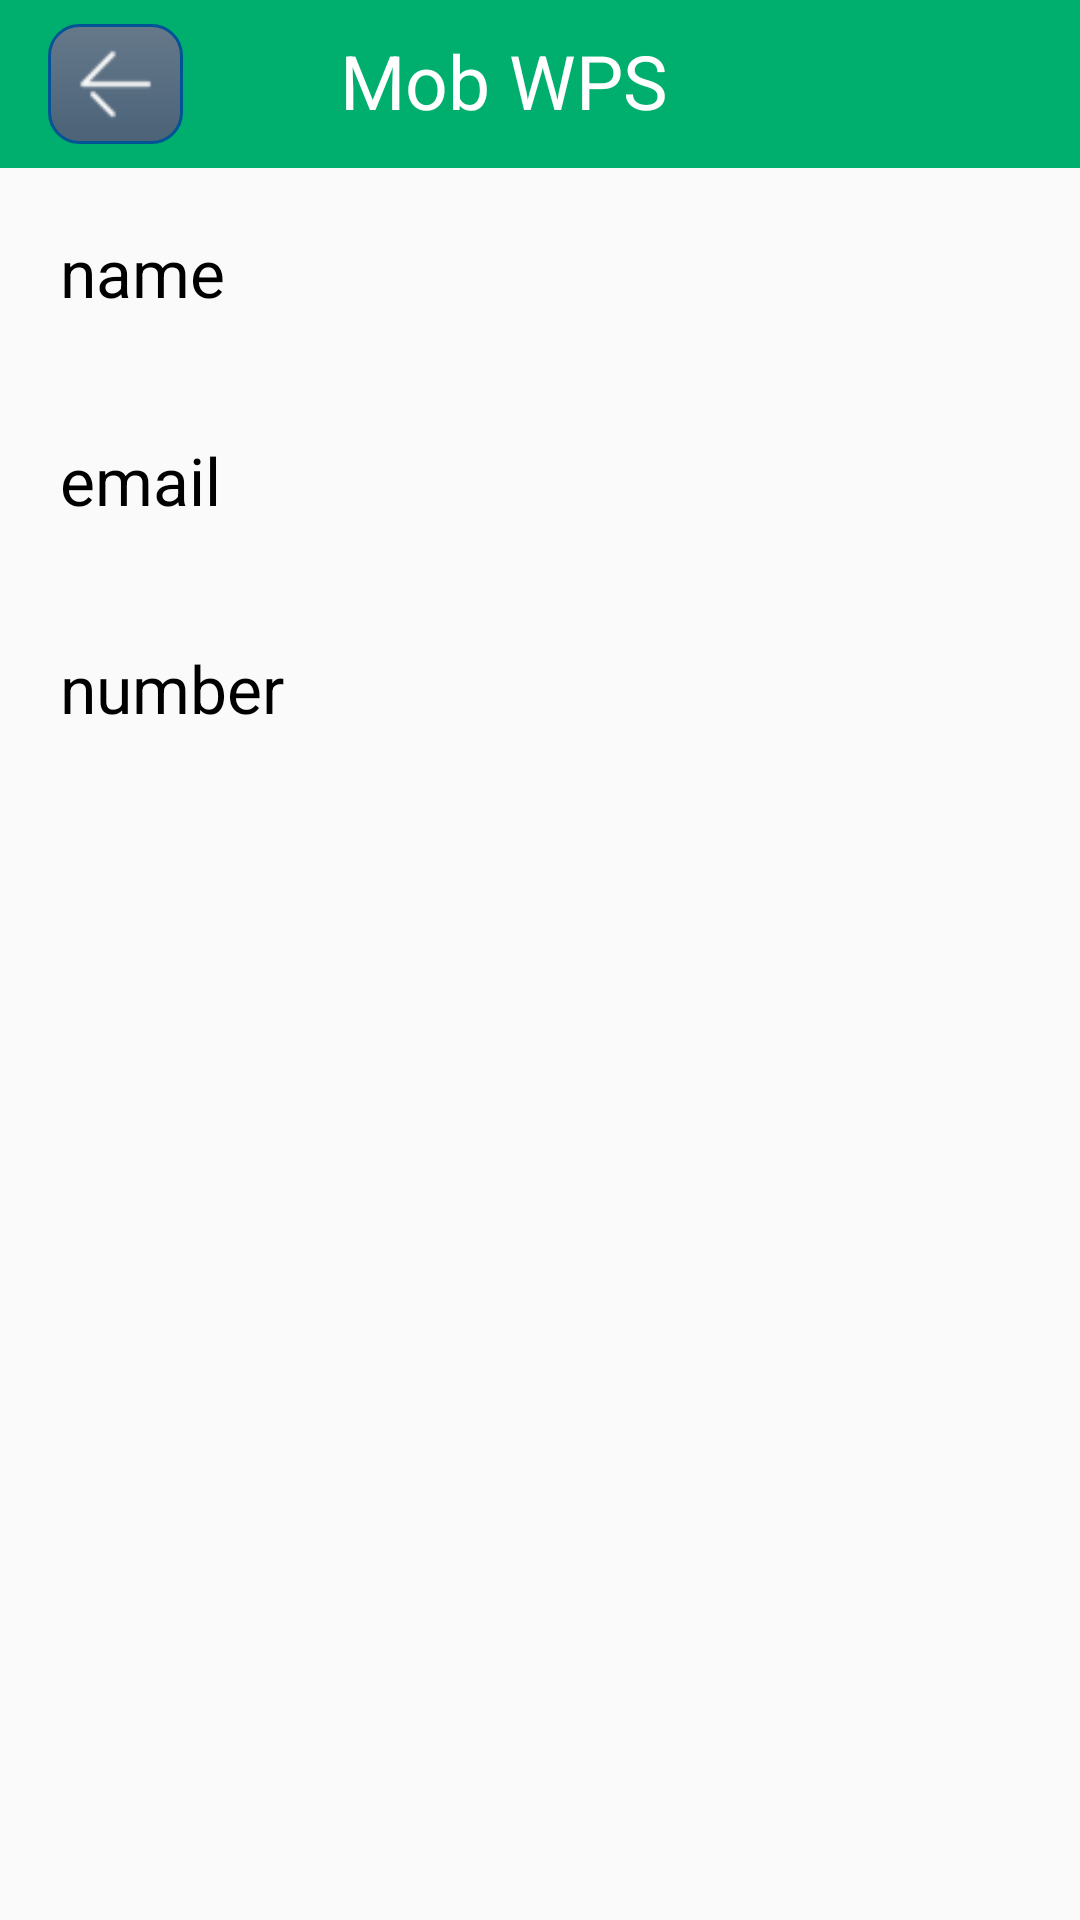

Icons on this 1080px×1920px Android screen, each with the point to tap as point (x, y):
back: point (115, 84)
